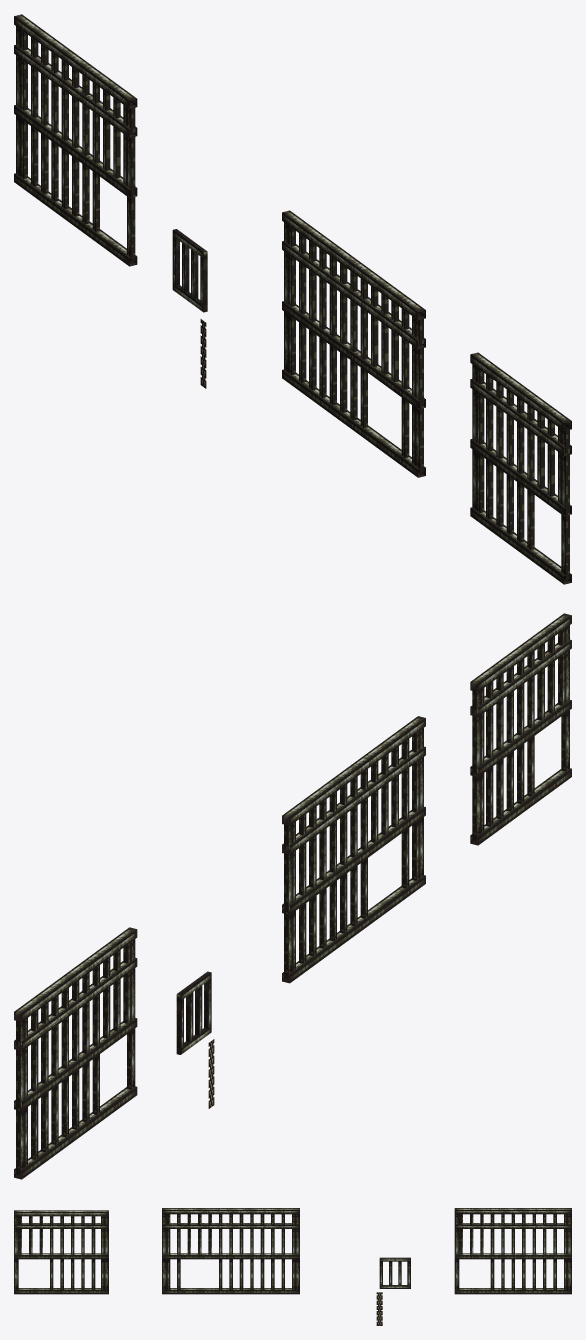
Rendered from ObjMD_Prison_A_entrance.FBX.
3 renders of one model, top to bottom at view 1: azimuth 30°, elevation 25°; view 2: azimuth 150°, elevation 25°; view 3: azimuth 270°, elevation 25°, orthographic. The views are drawn at different scales.
Visible parts, largest first — view 1: ObjMD_Co_Prison_C, ObjMD_Co_Prison_A, ObjMD_Co_Prison_B, ObjMD_Prison_A_entrance; view 2: ObjMD_Co_Prison_C, ObjMD_Co_Prison_A, ObjMD_Co_Prison_B, ObjMD_Prison_A_entrance; view 3: ObjMD_Co_Prison_C, ObjMD_Co_Prison_A, ObjMD_Co_Prison_B, ObjMD_Prison_A_entrance, ObjMD_Prison_A_chain.
Boxes of the visible parts, box(x1,y1,x2,y2) form: ObjMD_Co_Prison_C: box(282, 210, 425, 477); ObjMD_Co_Prison_A: box(14, 14, 137, 266); ObjMD_Co_Prison_B: box(470, 352, 571, 584); ObjMD_Prison_A_entrance: box(172, 229, 207, 312); ObjMD_Co_Prison_C: box(282, 716, 425, 983); ObjMD_Co_Prison_A: box(14, 927, 137, 1179); ObjMD_Co_Prison_B: box(470, 613, 571, 845); ObjMD_Prison_A_entrance: box(176, 971, 211, 1054); ObjMD_Co_Prison_C: box(162, 1208, 299, 1294); ObjMD_Co_Prison_A: box(454, 1208, 571, 1294); ObjMD_Co_Prison_B: box(14, 1210, 108, 1294); ObjMD_Prison_A_entrance: box(379, 1257, 410, 1288); ObjMD_Prison_A_chain: box(376, 1292, 382, 1325).
Bounding box in the file's own units: 25 × 700 × 3006.
